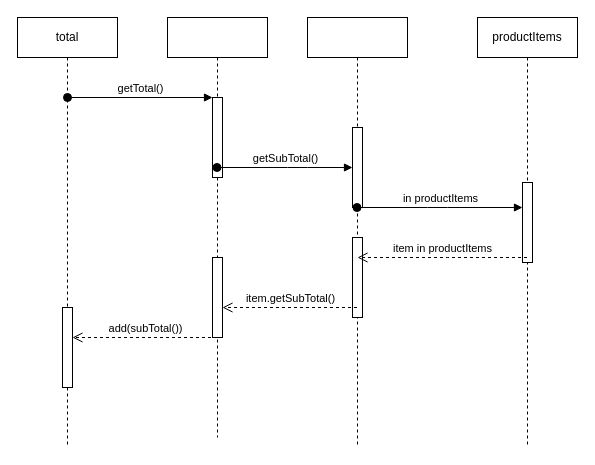
Some shapes in this 595 by 465 pixel diagram are drawn without their labels. The shapes that lost their labels are listed below. From the top down, each one's box as (x1, y1, x2, y2) in pixels, then its label:
(166, 16, 268, 438): subTotal
(306, 16, 408, 448): item
